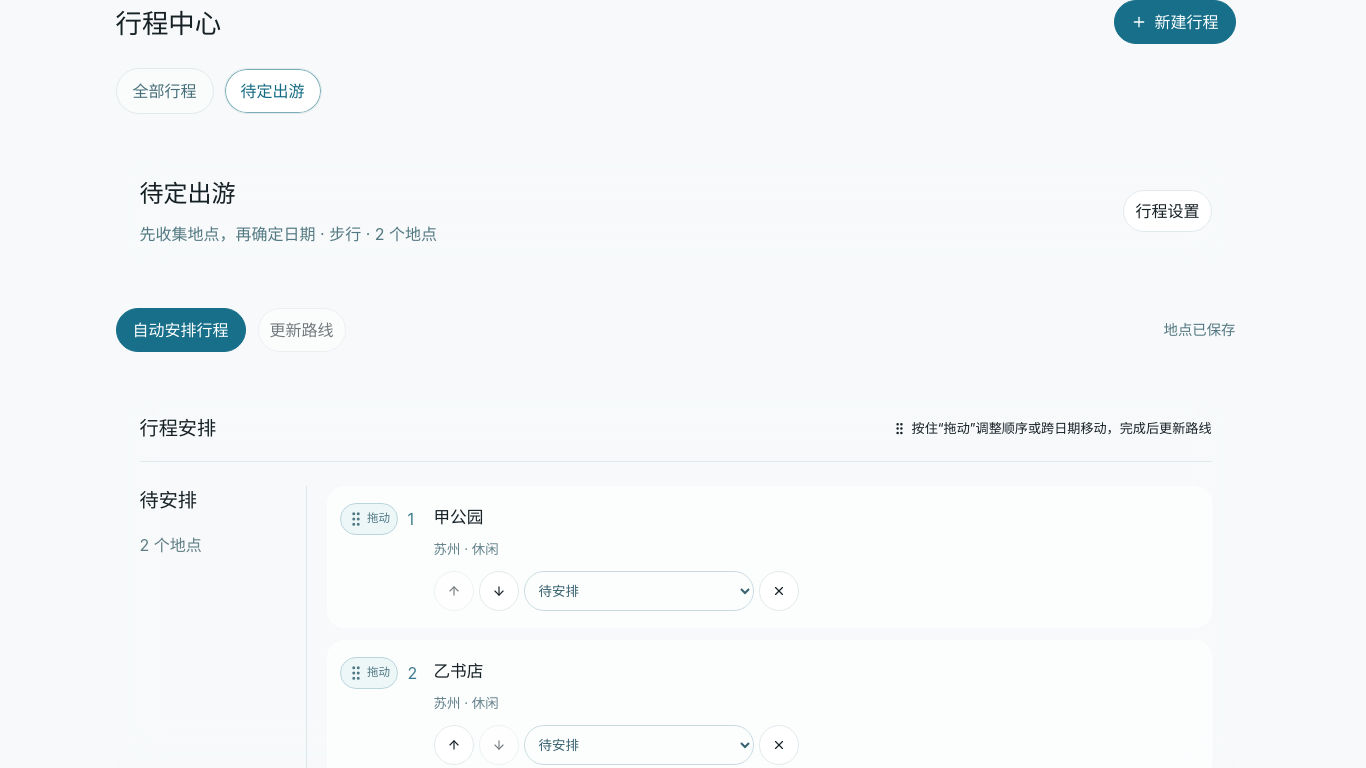
Test: saves a transport change without requiring dates or generating routes
This screenshot has width=1366, height=768.
Click the button "行程设置" at (1168, 211), box [1124,190,1212,232]
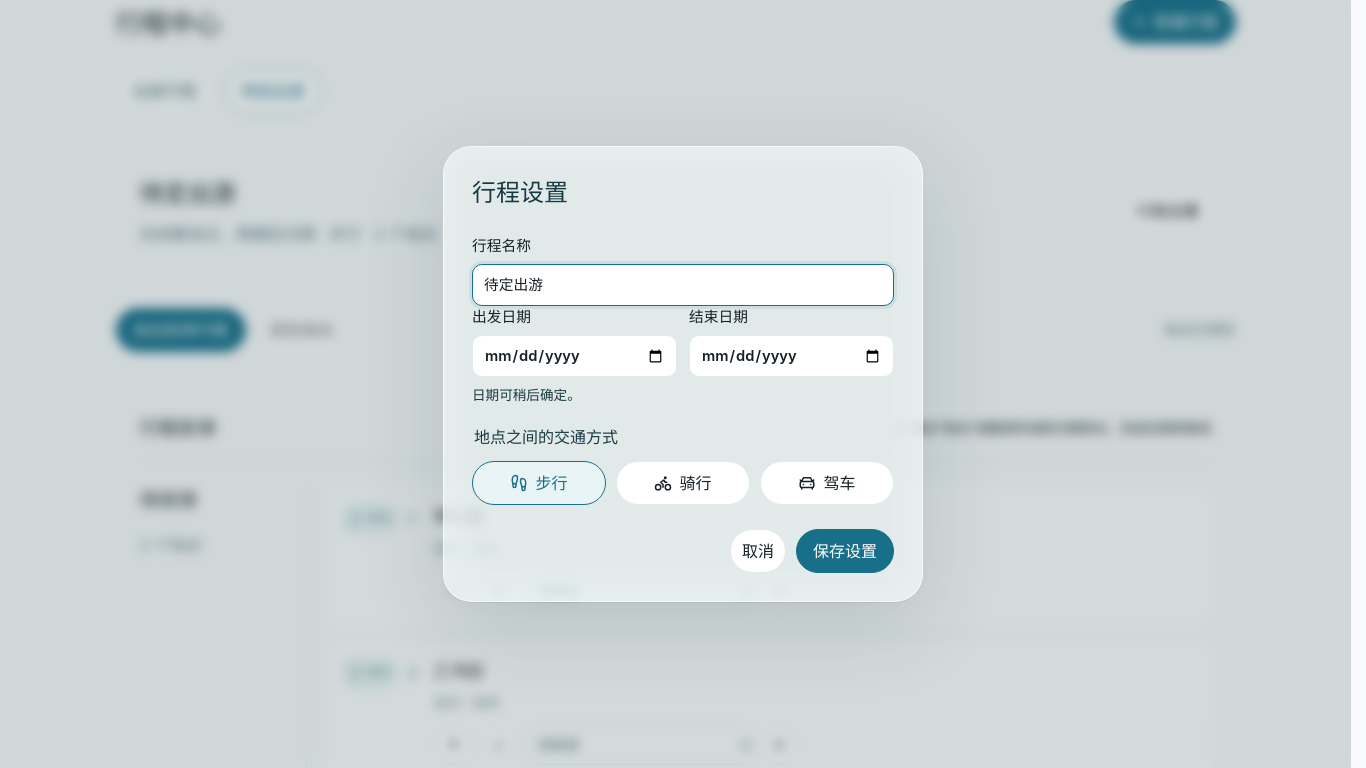
Click the radio button labelled "骑行" at (683, 483), box [616,461,750,505]
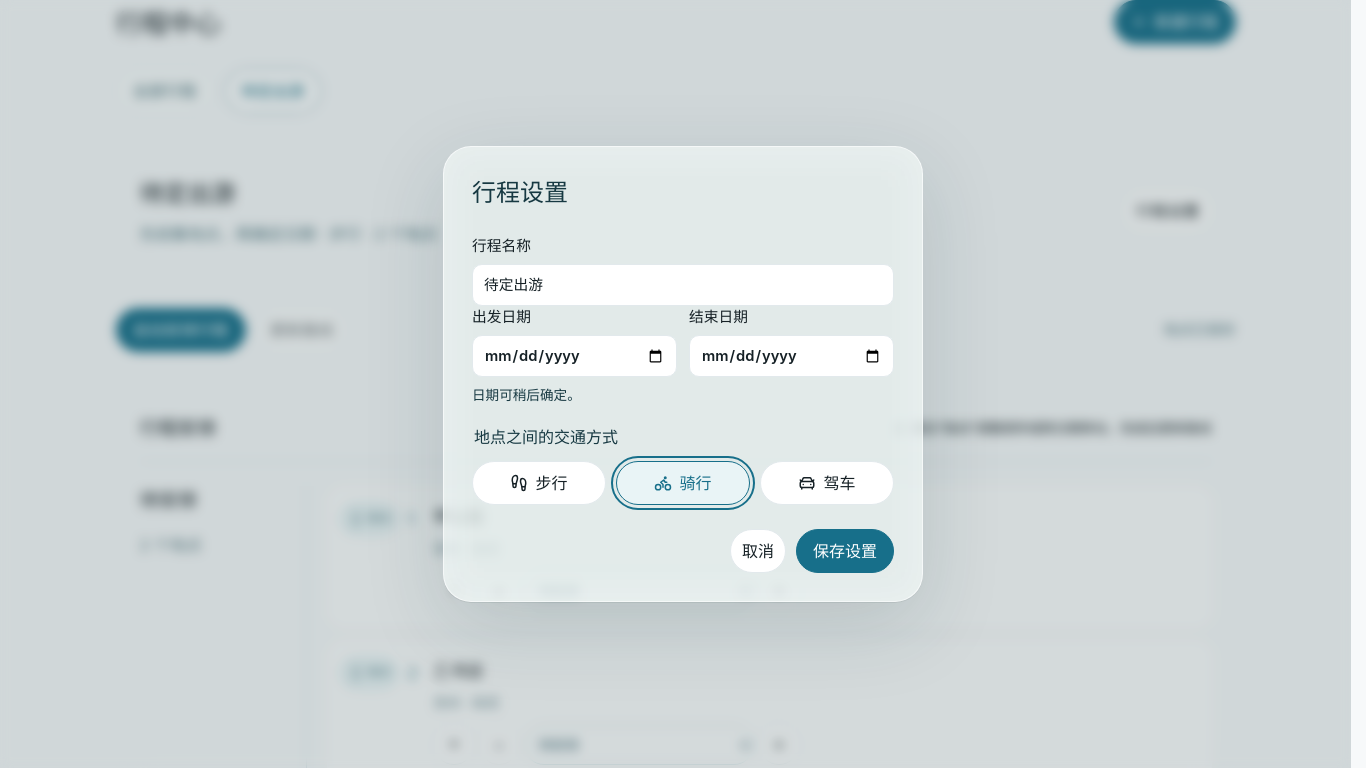
Click the button "保存设置" at (845, 551), box [796,529,894,573]
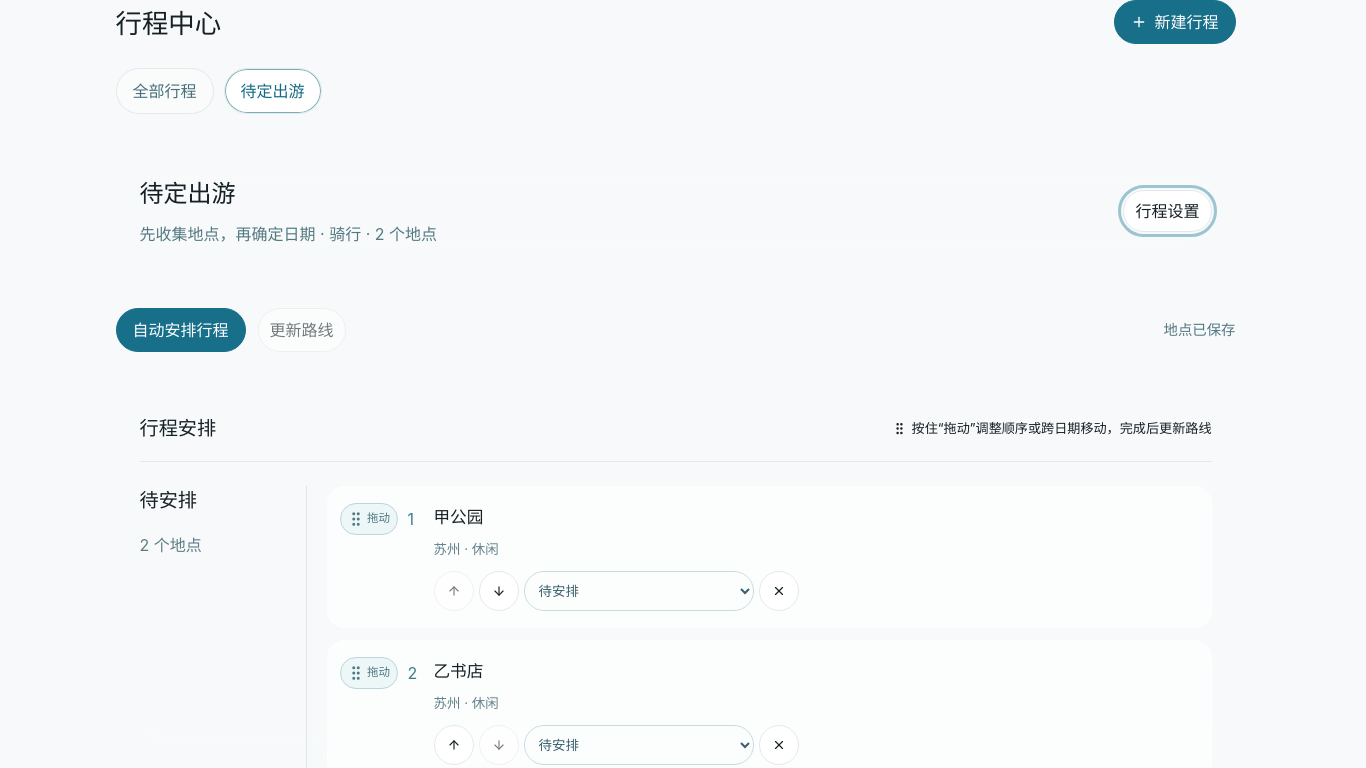
Now the dialog is gone
